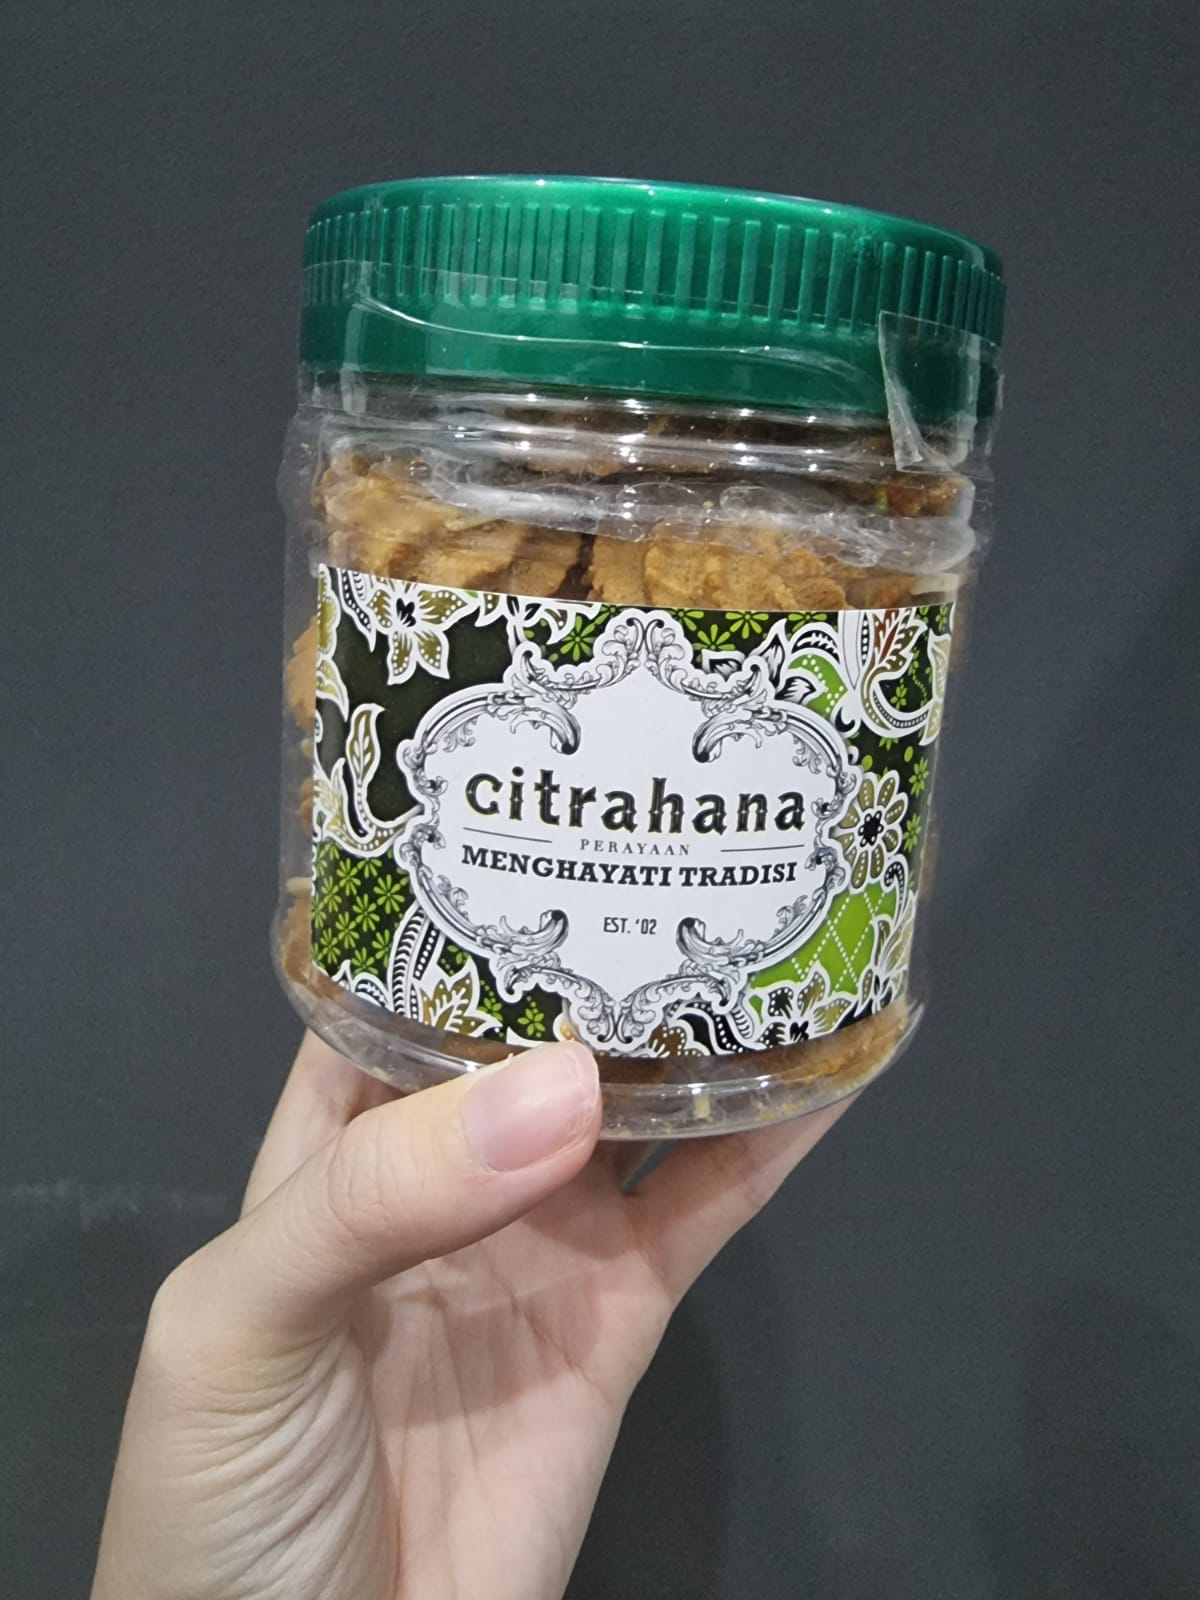Biscuits: (311, 233, 921, 1066)
